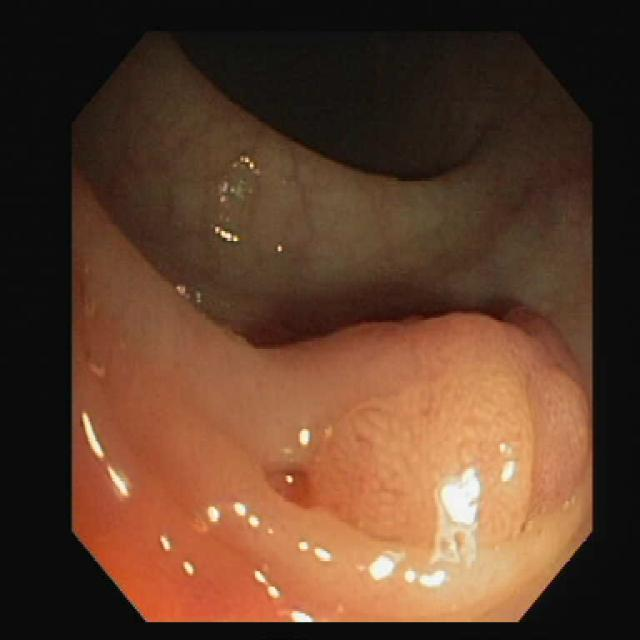tumor: (302, 311, 588, 582)
